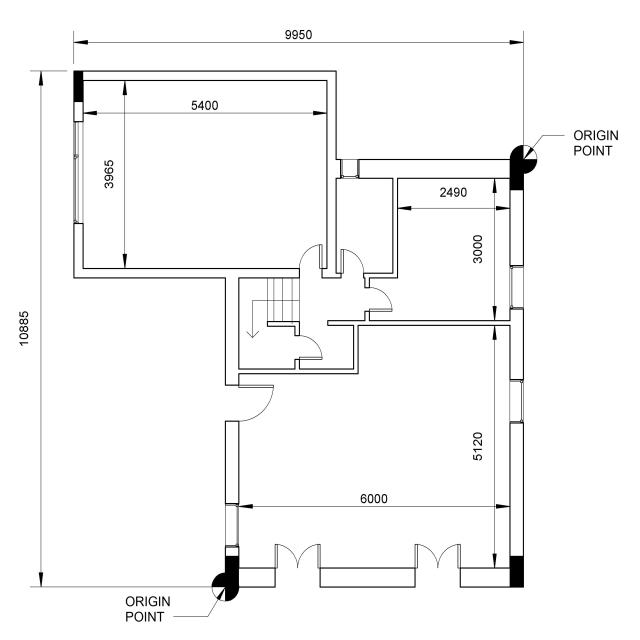Column: (221, 553, 242, 591), (505, 552, 526, 589), (507, 156, 525, 192), (71, 69, 87, 105)
Door: (222, 381, 275, 427), (293, 242, 325, 276), (362, 284, 395, 315), (292, 333, 324, 362), (338, 246, 366, 278)
Double-Door: (269, 540, 326, 590), (411, 542, 463, 591)
Staircase: (235, 276, 298, 374)
Window: (71, 119, 87, 228), (222, 500, 242, 550), (506, 262, 526, 311), (506, 376, 525, 427), (338, 157, 362, 180)
